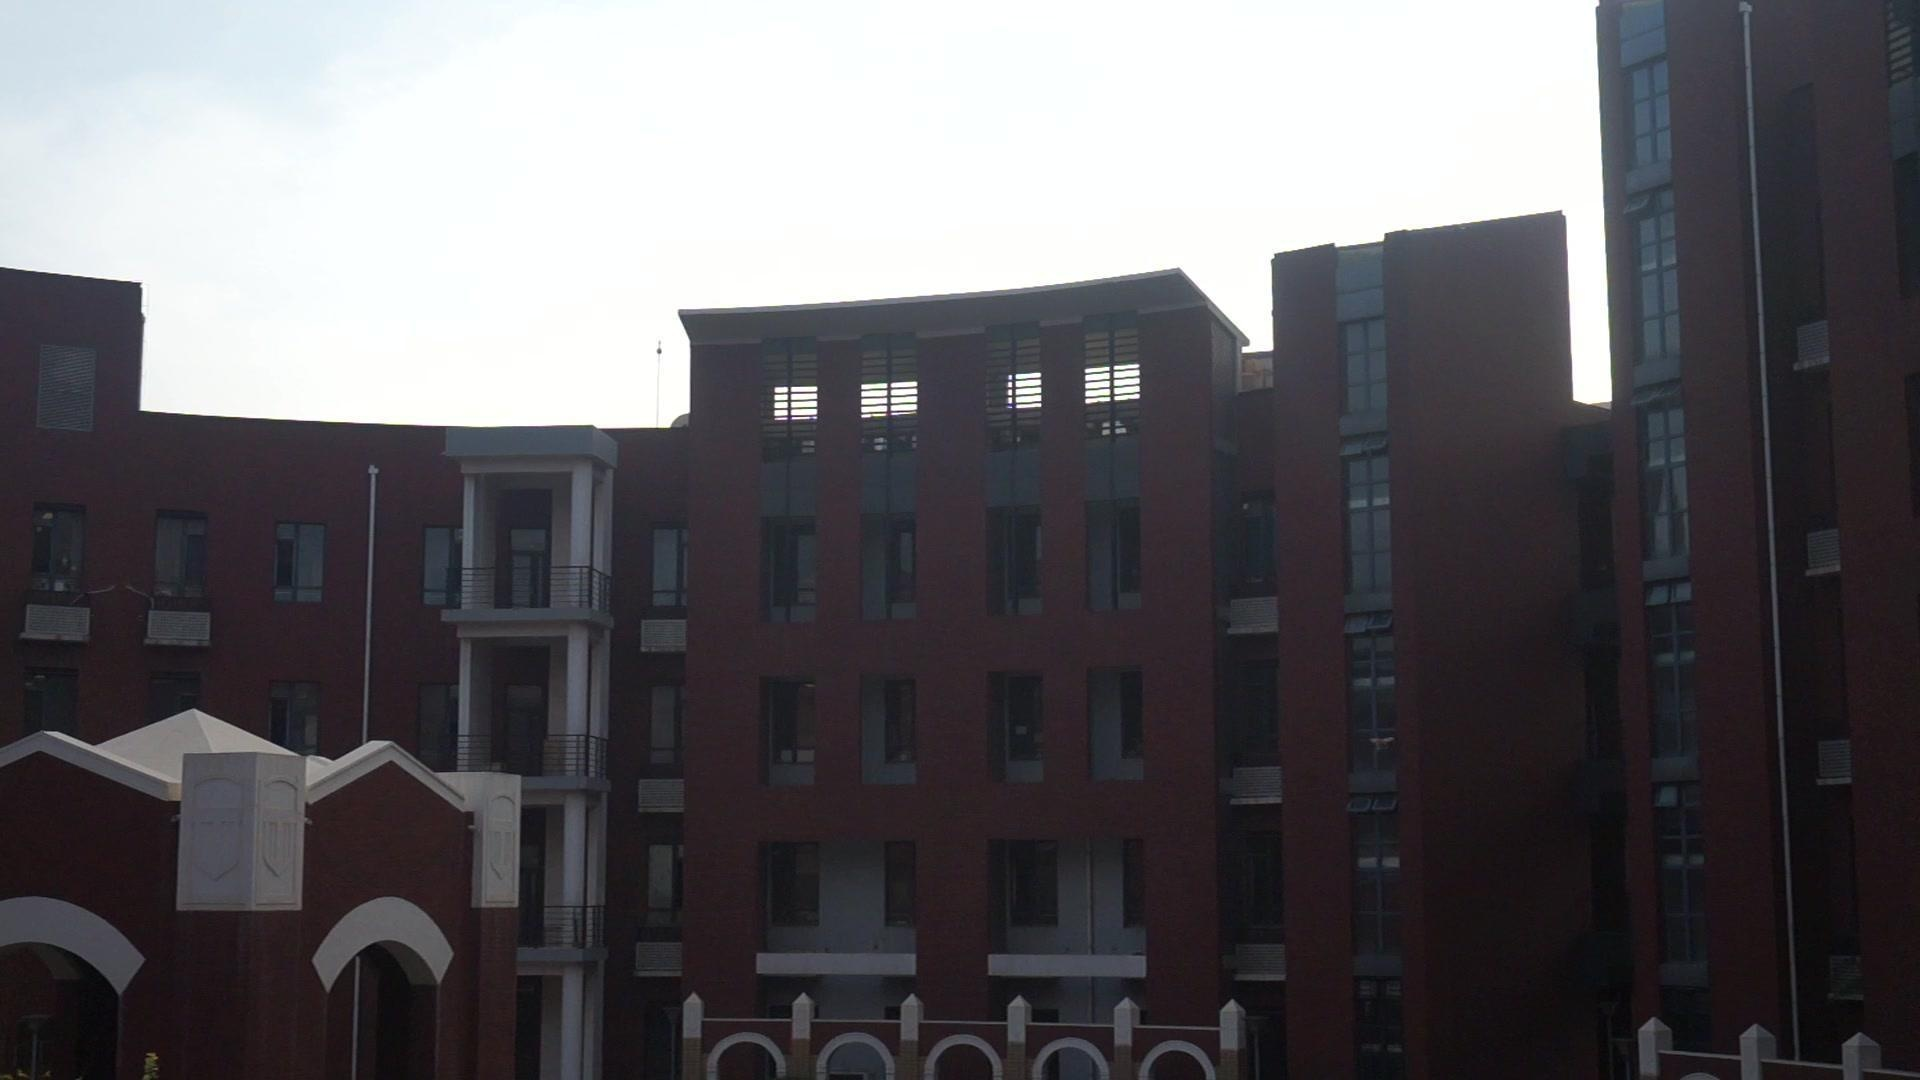UAV: (1370, 738, 1396, 752)
